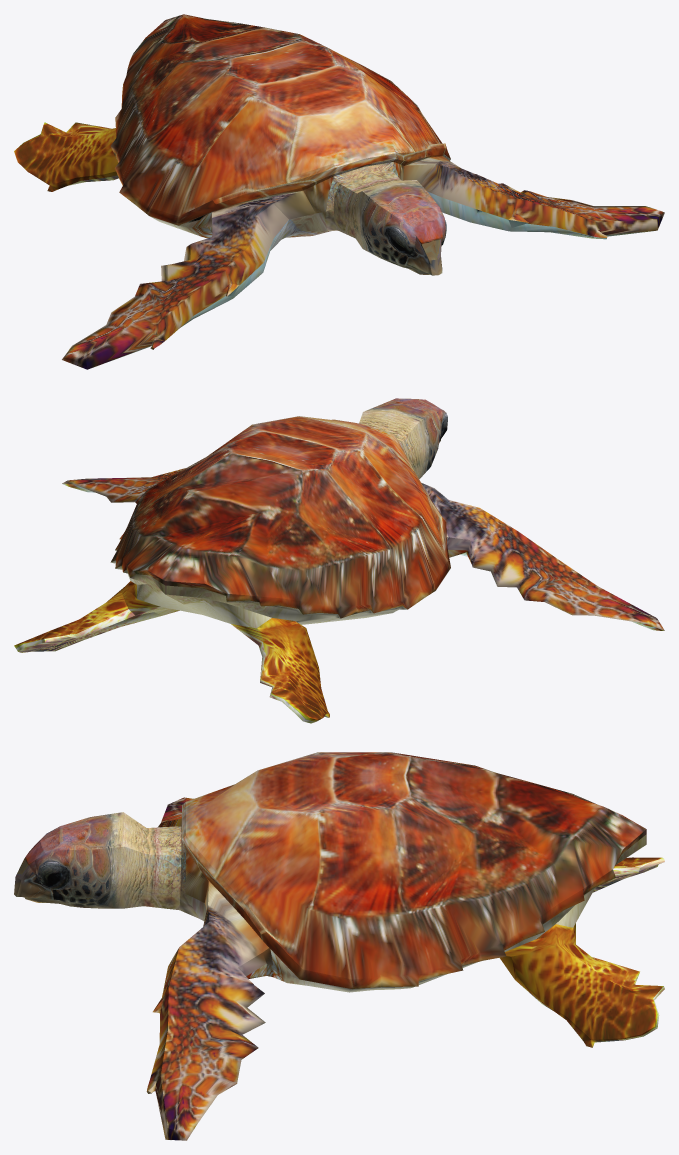
Rendered from costa.glb.
3 renders of one model, top to bottom at view 1: azimuth 30°, elevation 25°; view 2: azimuth 150°, elevation 25°; view 3: azimuth 270°, elevation 25°, orthographic. The views are drawn at different scales.
Visible parts, largest first — view 1: tortle_obj; view 2: tortle_obj; view 3: tortle_obj.
Boxes of the visible parts, x1=… form: tortle_obj: x1=14, y1=14, x2=664, y2=369; tortle_obj: x1=14, y1=398, x2=664, y2=723; tortle_obj: x1=14, y1=752, x2=664, y2=1140.
Size of the model in its own units: 950 by 263 by 765.
Materials: 1 (1 with a texture image).
